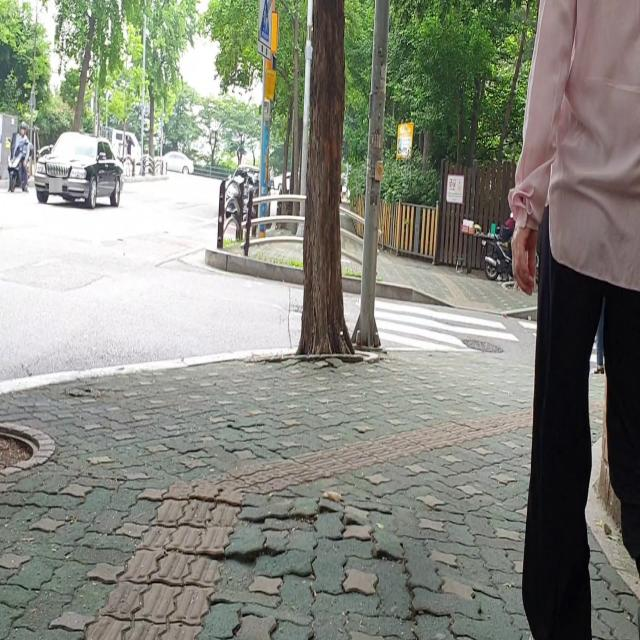횡단보도: (344, 291, 520, 353)
